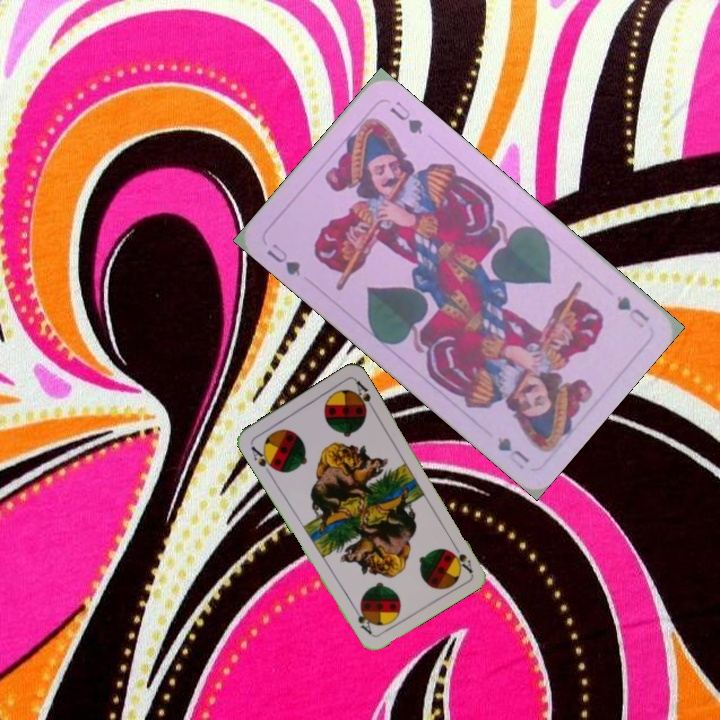GU: (262, 239, 304, 280), (612, 291, 652, 331)
SA: (247, 442, 279, 478), (448, 538, 475, 575)
